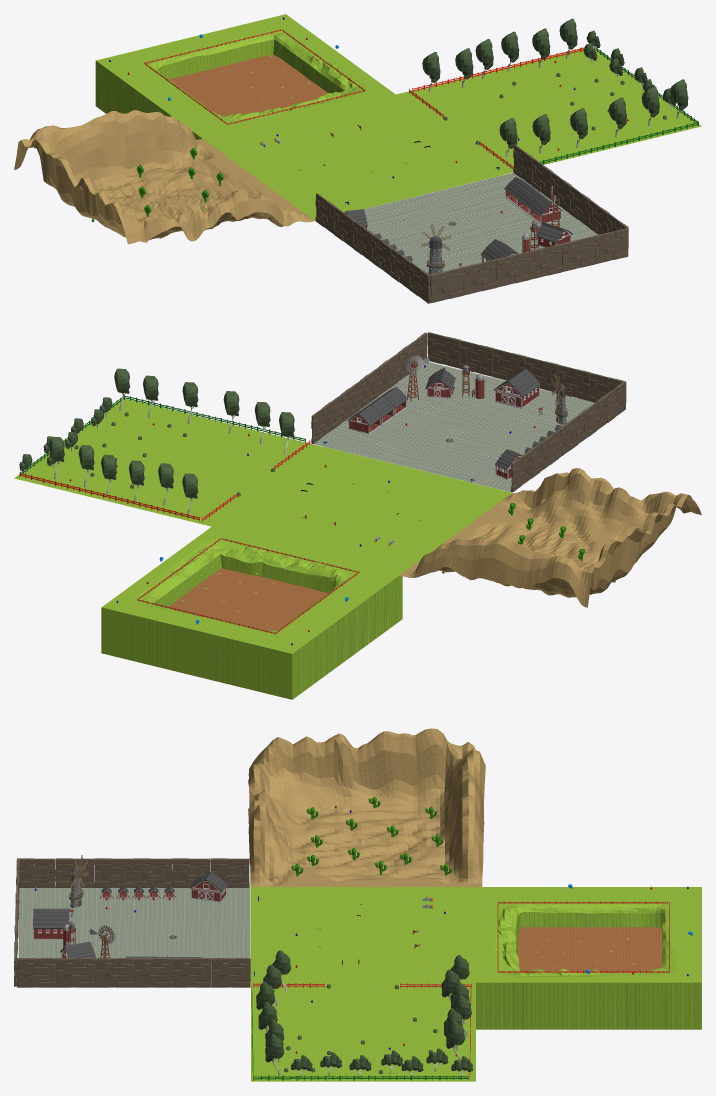
3 views of the same model, one above another, from view 1: azimuth 30°, elevation 25°; view 2: azimuth 150°, elevation 25°; view 3: azimuth 270°, elevation 25° (orthographic). The views are drawn at different scales.
Parts seen in each view (by area): view 1: dessert, ground, forest, lakeGround, village, Wall_Modular_Cube.001, lake, Buildings, Wall_Modular_Cube.005, Wall_Modular_Cube.000, Fence.001, Fence.000; view 2: lakeGround, ground, dessert, forest, village, lake, Buildings, Wall_Modular_Cube.001, Wall_Modular_Cube.005, Wall_Modular_Cube.000, Fence.000, Fence.001; view 3: dessert, lakeGround, ground, forest, village, Wall_Modular_Cube.000, lake, Wall_Modular_Cube.005, Buildings, Fence.002.
Boxes of the visible parts, <box> form: dessert: <box>14,110,314,244</box>; ground: <box>203,93,502,220</box>; forest: <box>394,47,701,174</box>; lakeGround: <box>95,14,395,139</box>; village: <box>343,173,598,300</box>; Wall_Modular_Cube.001: <box>430,228,628,302</box>; lake: <box>168,54,327,115</box>; Buildings: <box>344,177,572,274</box>; Wall_Modular_Cube.005: <box>315,193,430,303</box>; Wall_Modular_Cube.000: <box>513,144,628,251</box>; Fence.001: <box>539,121,698,164</box>; Fence.000: <box>412,47,584,91</box>; lakeGround: <box>101,526,402,699</box>; ground: <box>211,446,511,575</box>; dessert: <box>400,468,701,607</box>; forest: <box>14,398,322,526</box>; village: <box>314,362,618,492</box>; lake: <box>168,568,327,630</box>; Buildings: <box>347,355,567,479</box>; Wall_Modular_Cube.001: <box>427,332,623,402</box>; Wall_Modular_Cube.005: <box>511,381,626,492</box>; Wall_Modular_Cube.000: <box>311,332,427,443</box>; Fence.000: <box>19,472,199,521</box>; Fence.001: <box>124,395,305,442</box>; dessert: <box>248,728,485,887</box>; lakeGround: <box>476,887,701,1029</box>; ground: <box>250,887,482,981</box>; forest: <box>251,981,475,1081</box>; village: <box>18,887,250,987</box>; Wall_Modular_Cube.000: <box>17,958,250,987</box>; lake: <box>517,927,662,972</box>; Wall_Modular_Cube.005: <box>17,858,249,887</box>; Buildings: <box>33,855,227,980</box>; Fence.002: <box>254,1075,468,1080</box>.
Size of the model in its own units: 303 by 54 by 304.
Materials: 393 (19 with a texture image).
